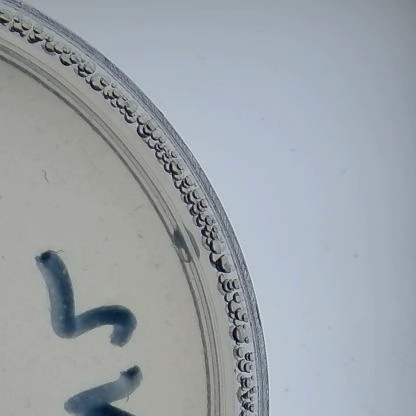worm: (39, 167, 54, 185)
